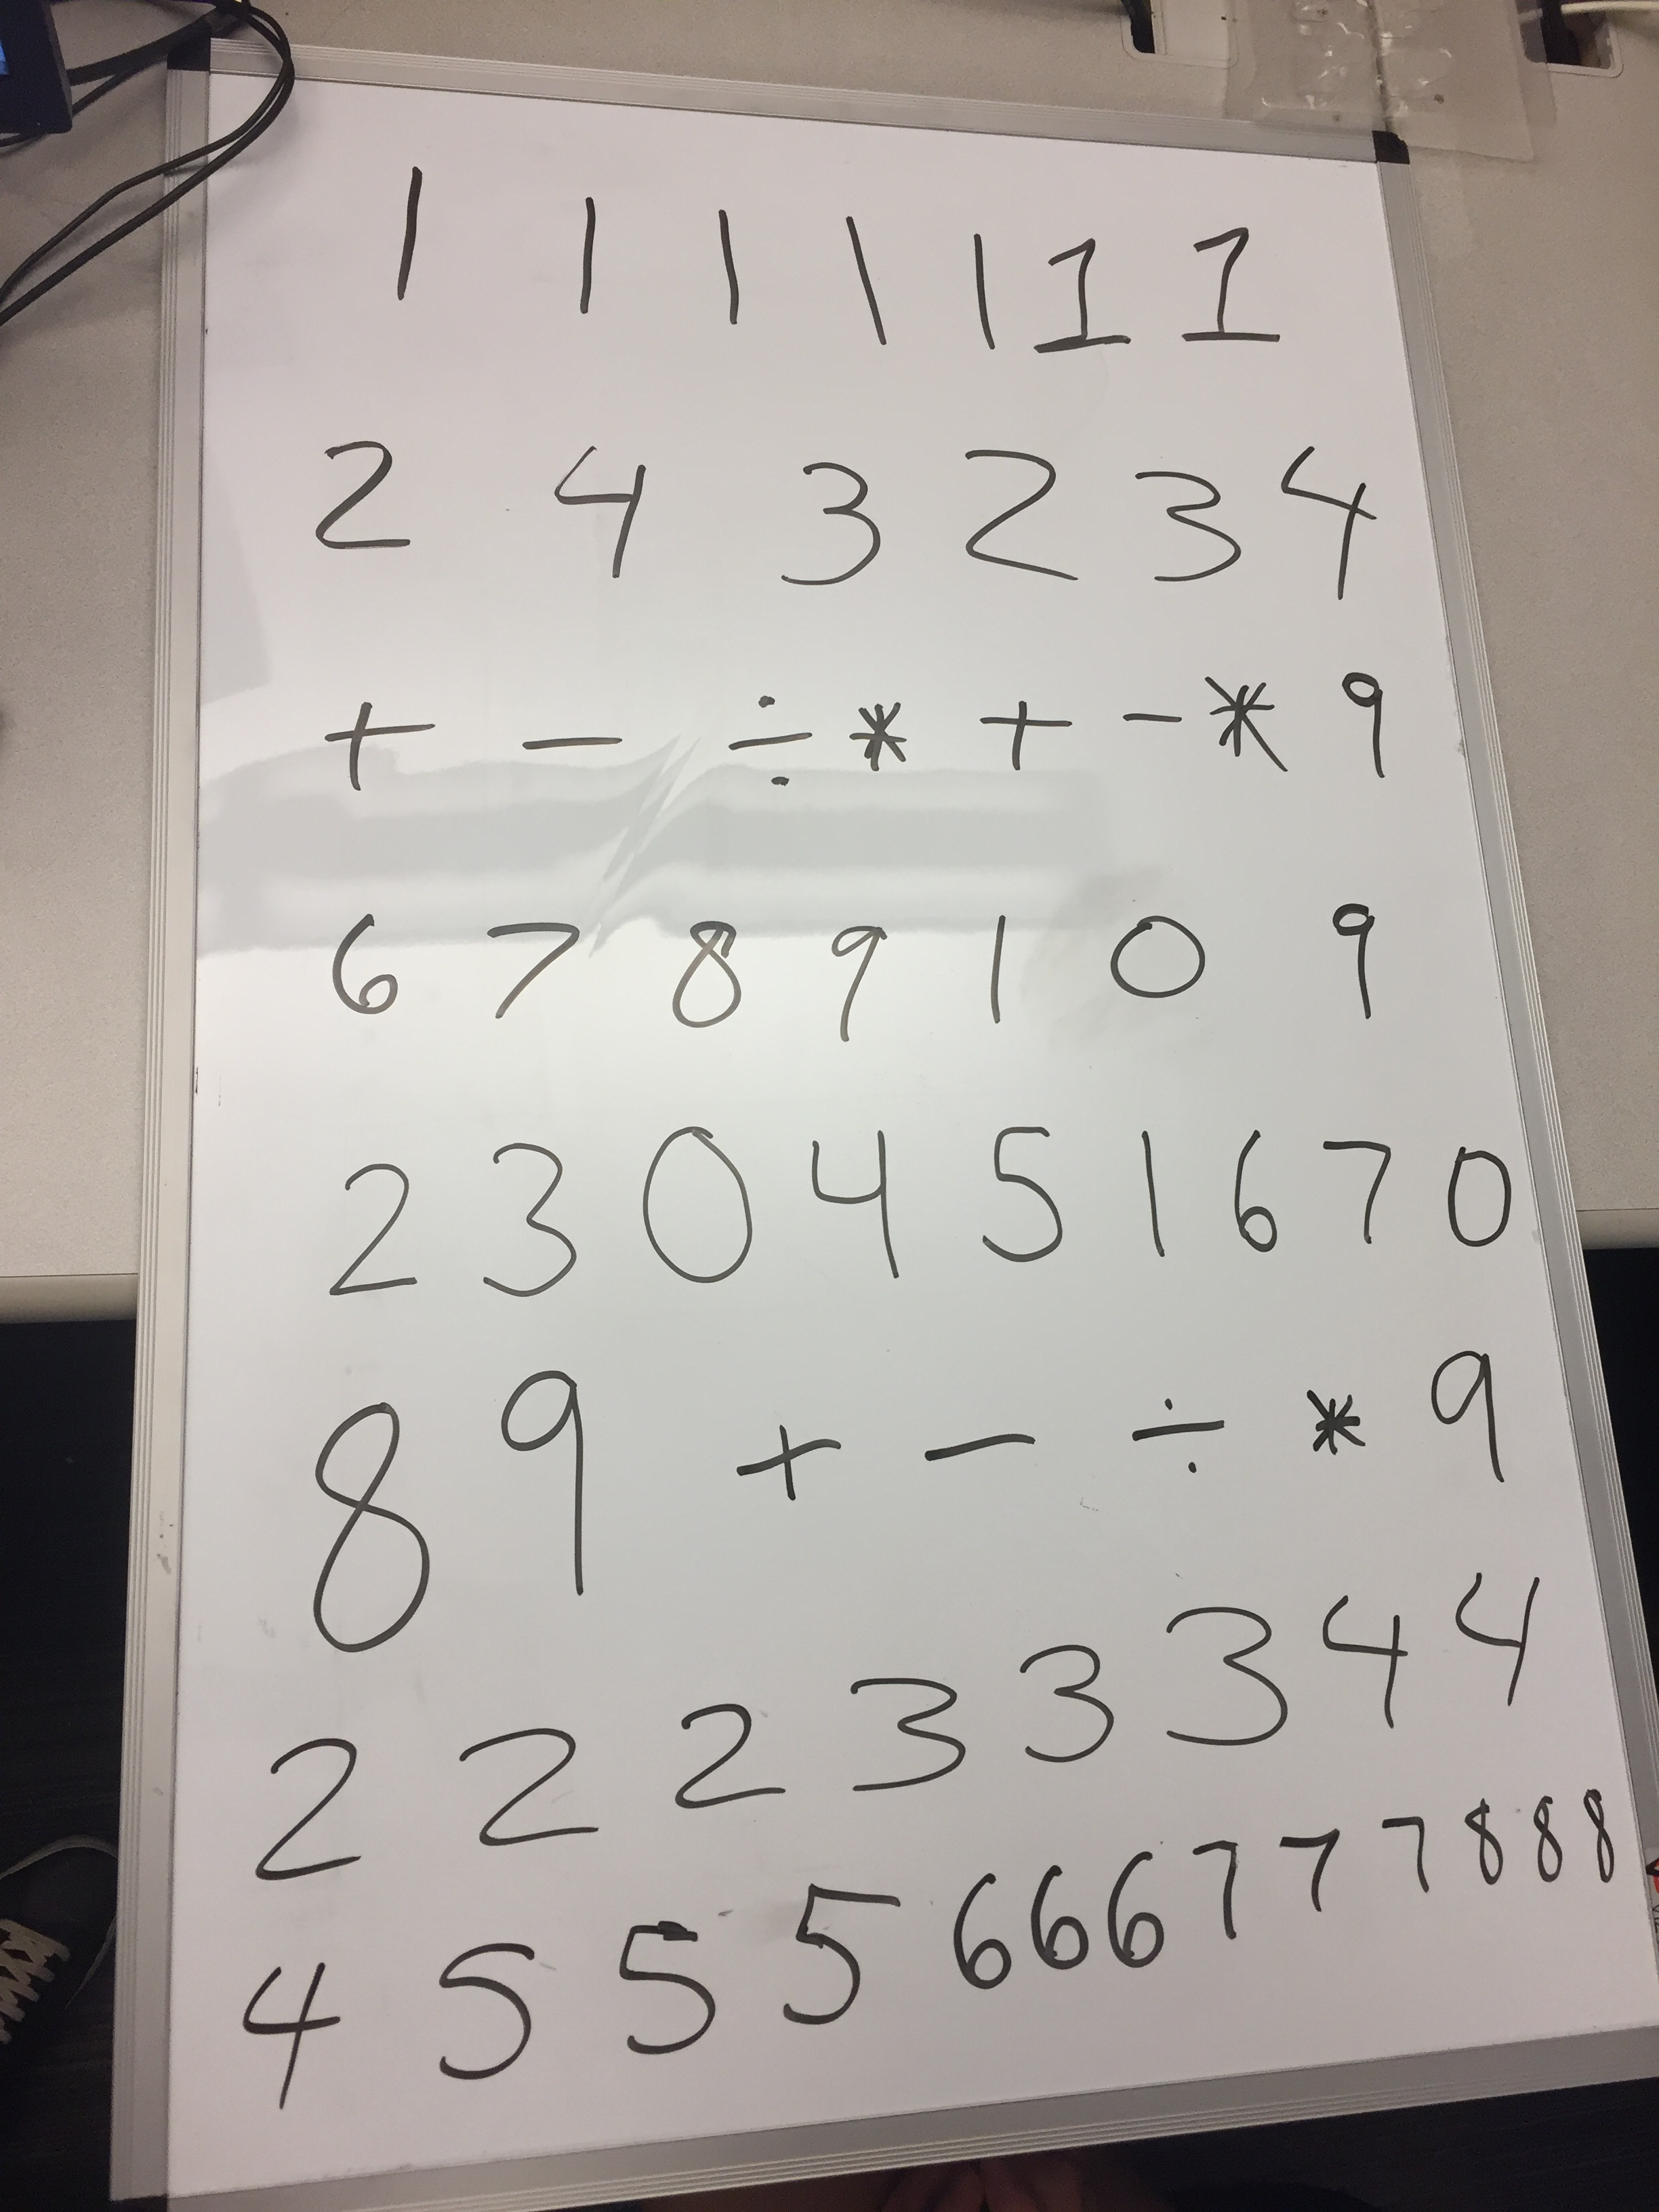+: (708, 1390, 861, 1536), (951, 665, 1094, 798), (310, 679, 446, 815)
-: (897, 1390, 1053, 1507), (500, 686, 640, 787), (1105, 672, 1202, 773)
0: (619, 1109, 772, 1317), (1422, 1120, 1528, 1285), (1098, 895, 1220, 1021)
1: (1171, 195, 1293, 371), (1033, 218, 1145, 388), (355, 146, 453, 327), (1117, 1106, 1192, 1303), (948, 199, 1019, 378), (690, 185, 765, 350), (829, 199, 901, 368), (554, 178, 622, 343), (965, 902, 1040, 1042)
2: (432, 1712, 622, 1879), (938, 418, 1101, 608), (310, 1146, 436, 1336), (298, 418, 436, 587), (244, 1726, 378, 1898), (660, 1686, 796, 1838)
3: (1141, 1594, 1300, 1773), (467, 1123, 596, 1332), (762, 439, 897, 611), (1121, 442, 1256, 608), (836, 1655, 983, 1808), (1002, 1632, 1124, 1797)
4: (789, 1113, 931, 1317), (213, 1940, 352, 2132), (1263, 425, 1389, 618), (542, 418, 671, 597), (1304, 1573, 1425, 1750), (1439, 1550, 1558, 1730)
5: (769, 1858, 911, 2066), (951, 1103, 1084, 1310), (599, 1892, 739, 2081), (416, 1916, 554, 2106)
6: (1091, 1818, 1182, 2027), (308, 892, 427, 1045), (931, 1848, 1016, 2027), (1216, 1109, 1290, 1292), (1023, 1848, 1094, 2010)
7: (453, 888, 593, 1052), (1307, 1103, 1406, 1289), (1185, 1811, 1267, 2005), (1270, 1804, 1351, 1937), (1368, 1791, 1450, 1912)
8: (291, 1371, 443, 1686), (664, 902, 758, 1045), (1568, 1757, 1629, 1909), (1450, 1777, 1518, 1909), (1511, 1777, 1572, 1912)
9: (481, 1346, 622, 1629), (1419, 1329, 1534, 1512), (1304, 648, 1422, 798), (1314, 883, 1412, 1038), (809, 906, 901, 1069)
div: (708, 676, 833, 812), (1114, 1374, 1239, 1489)
x: (829, 676, 934, 819), (1199, 658, 1300, 794), (1277, 1360, 1385, 1475)
